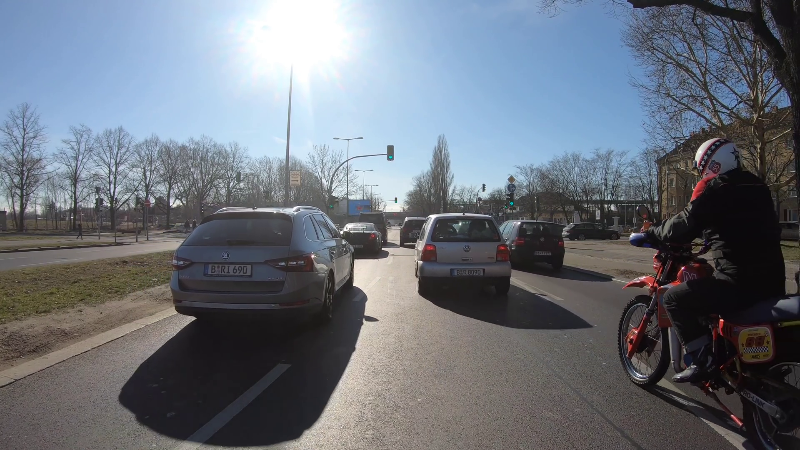Plate: (202, 262, 253, 278), (449, 267, 487, 278), (530, 249, 555, 257)
